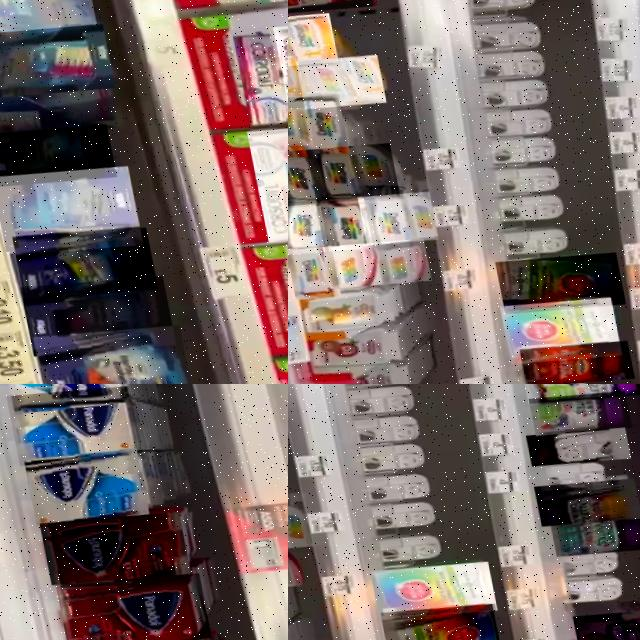Other: (14, 265, 172, 361), (0, 156, 140, 260), (33, 499, 186, 587), (48, 559, 206, 640), (8, 217, 154, 304), (1, 384, 139, 467), (18, 438, 145, 527), (26, 314, 187, 384), (0, 14, 114, 104), (489, 242, 621, 317), (493, 287, 616, 366), (0, 114, 115, 195), (364, 551, 493, 622), (316, 231, 427, 292), (295, 318, 411, 375), (301, 137, 396, 206), (295, 277, 402, 338), (529, 466, 639, 525), (511, 330, 628, 384), (292, 49, 384, 112), (374, 593, 497, 640), (522, 415, 628, 465), (525, 384, 629, 433), (352, 185, 434, 247), (545, 506, 640, 555), (288, 88, 346, 165), (308, 348, 415, 384), (0, 384, 126, 413), (566, 596, 640, 640), (314, 194, 369, 253), (288, 7, 335, 72), (288, 241, 335, 301), (61, 624, 220, 640), (288, 144, 325, 211), (518, 384, 640, 403), (288, 490, 316, 560), (288, 201, 319, 256), (288, 52, 302, 112)
Toothpaste: (229, 18, 288, 128), (243, 117, 288, 240), (268, 16, 288, 124)
